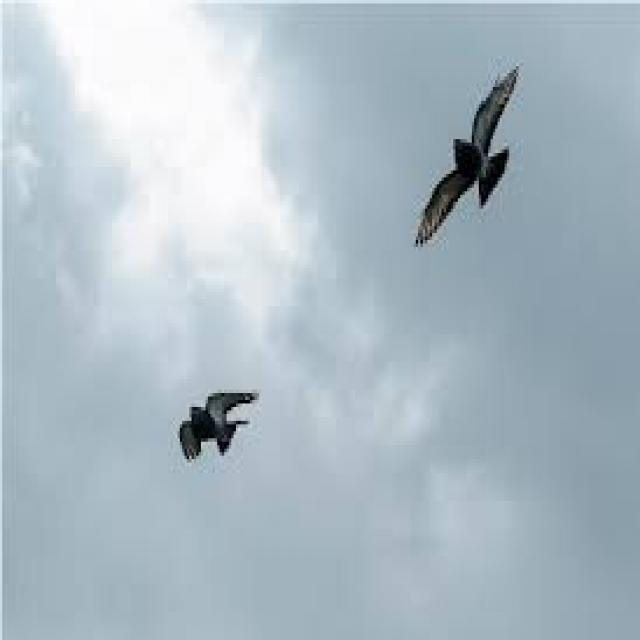bird: (380, 18, 564, 286), (144, 343, 258, 506)
